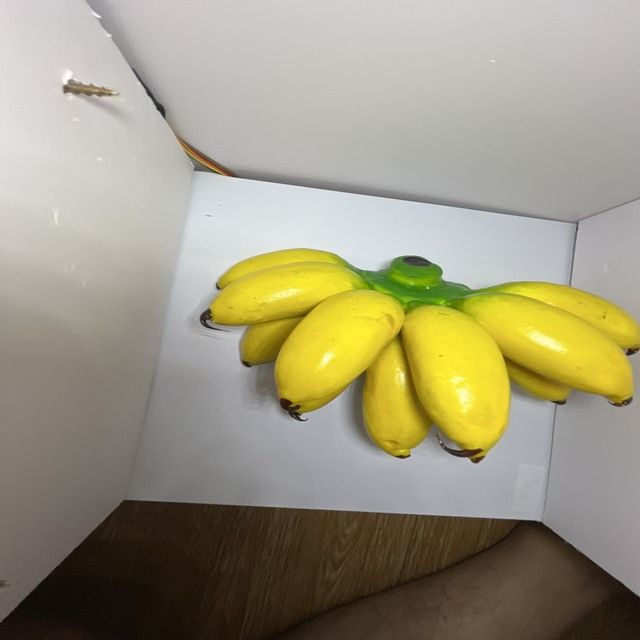Chuoi: (195, 240, 640, 469)
